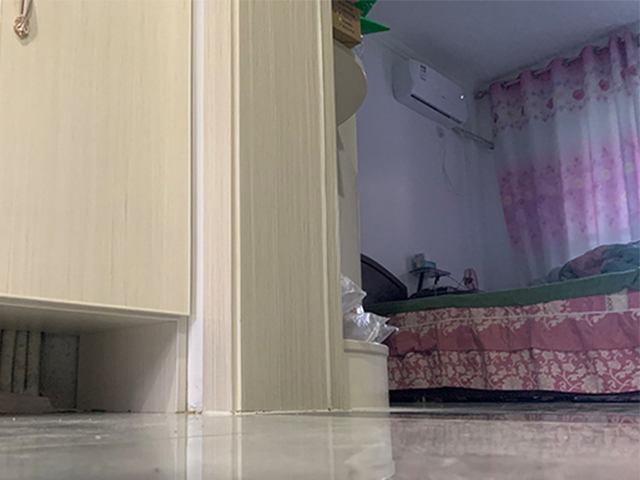bed: (360, 253, 640, 398)
cabinet: (1, 1, 192, 412)
curtain: (480, 31, 640, 265)
